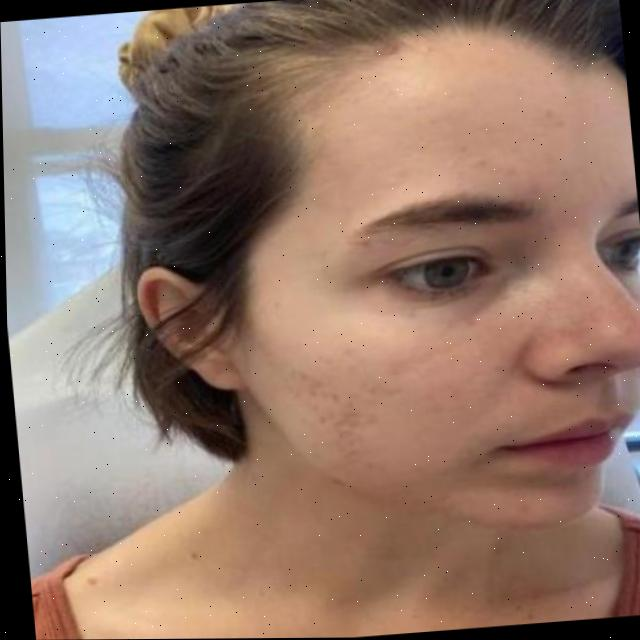Acne: (271, 322, 434, 482)
